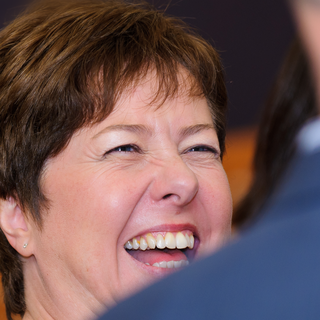eye: (99, 139, 148, 162), (177, 139, 222, 162)
